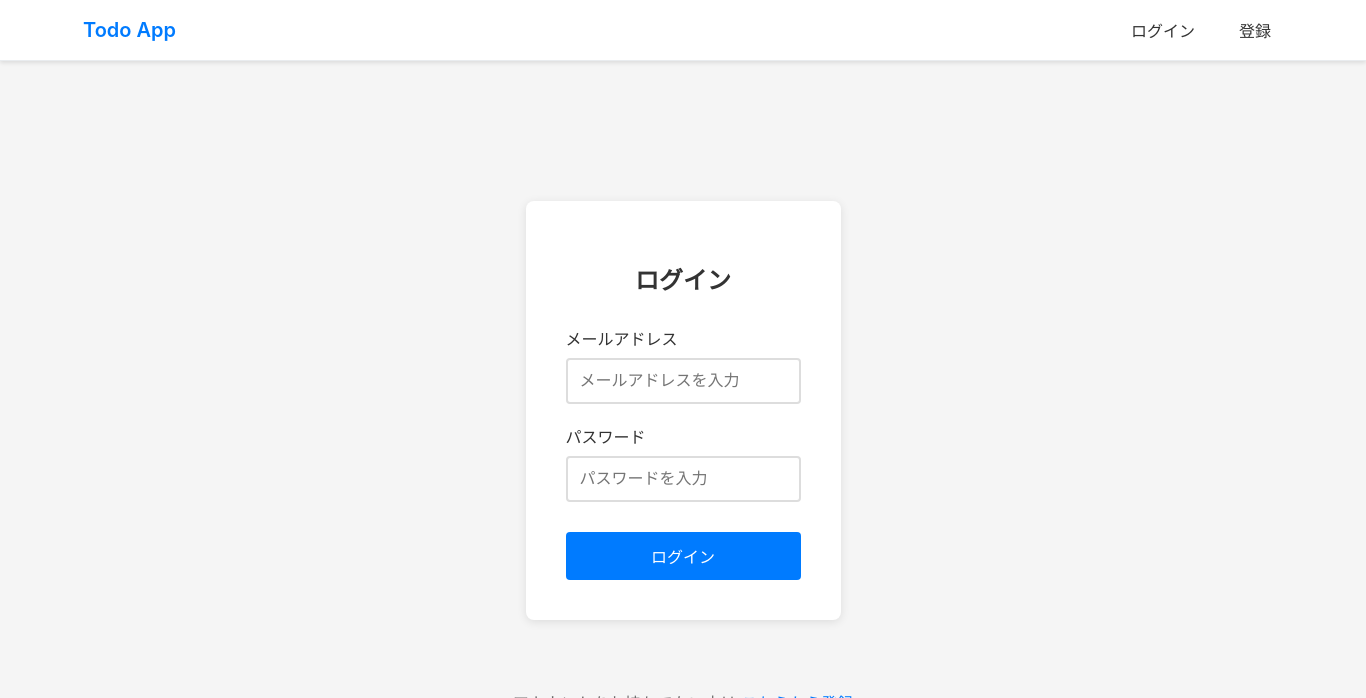
認証フロー統合テスト › 登録フローが正常に動作する
The image size is (1366, 698).
Expected: the heading "ログイン" is shown, [635,266,731,295]
Note: 登録ページへのリンクをクリック（ナビゲーションバーから）
Click the link "登録" at (1255, 31), box [1239,21,1271,41]
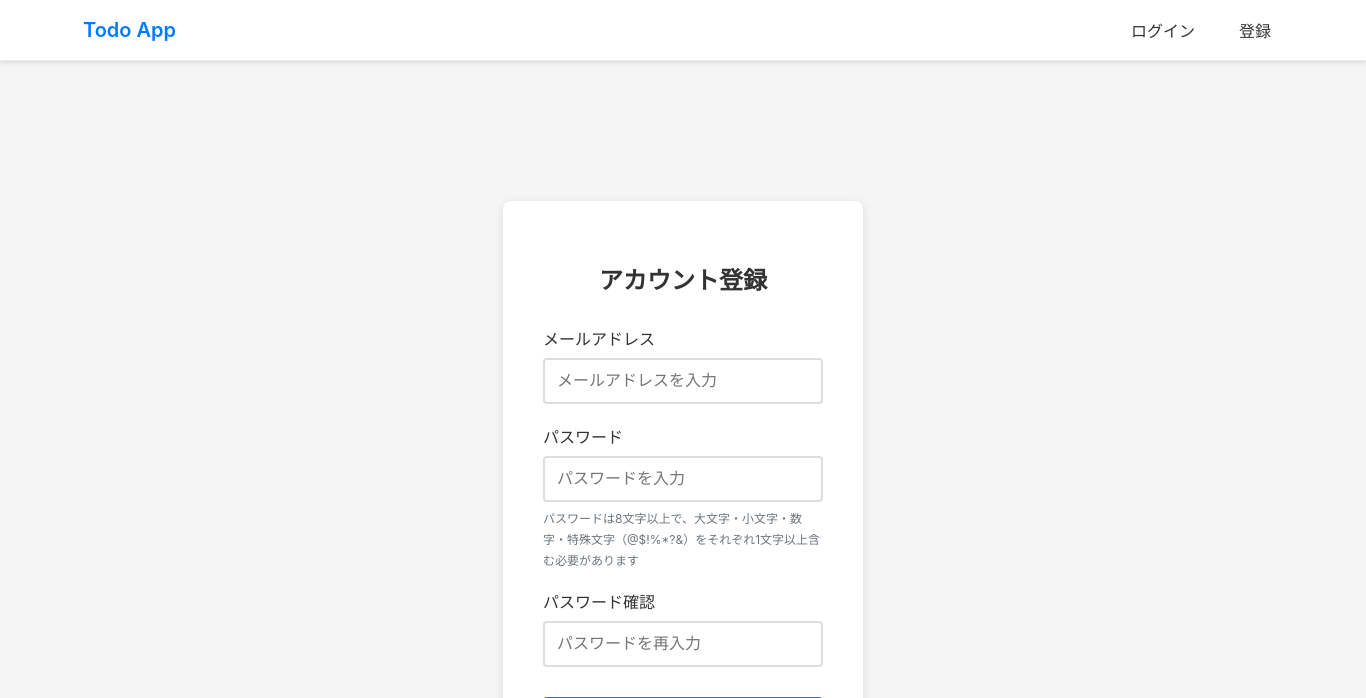
Expected: the heading "アカウント登録" is shown, [599,266,767,295]
Type "newuser@example.com" into the field labelled "メールアドレス" at (683, 381), box [543,358,823,404]
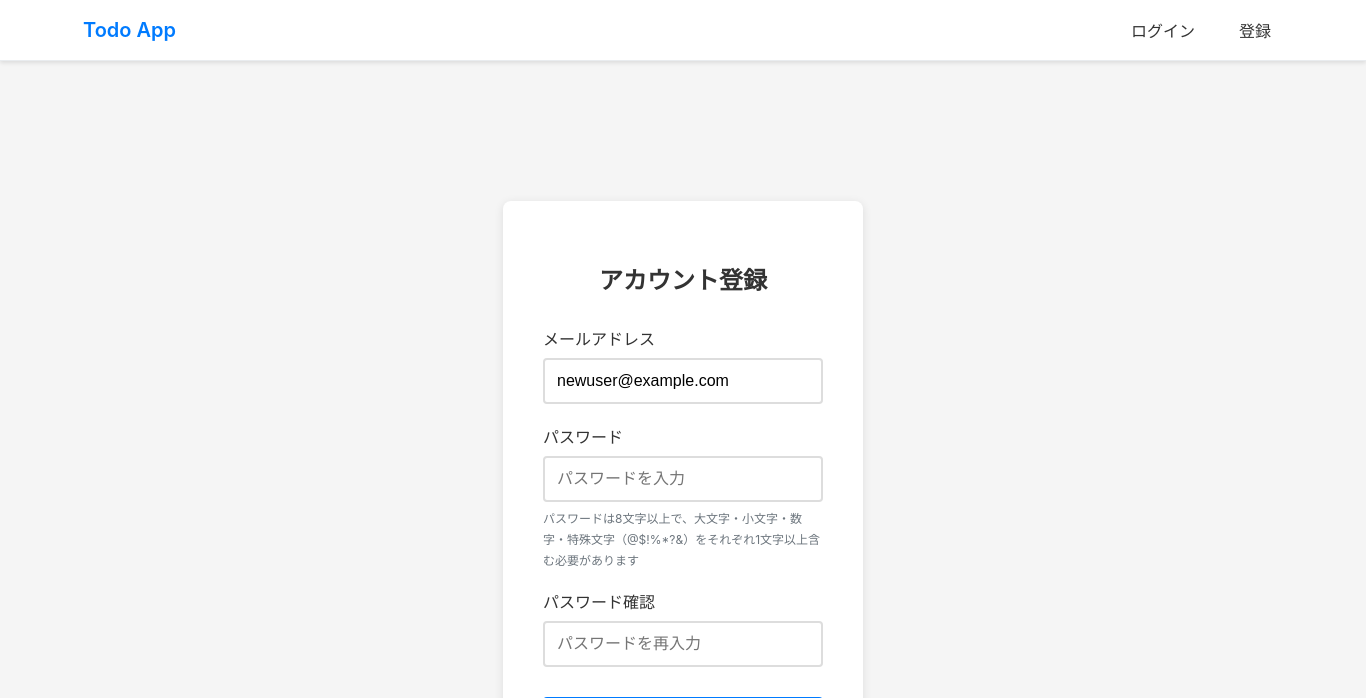
Type "Password123!" into the password field labelled "パスワード" at (683, 479), box [543,456,823,502]
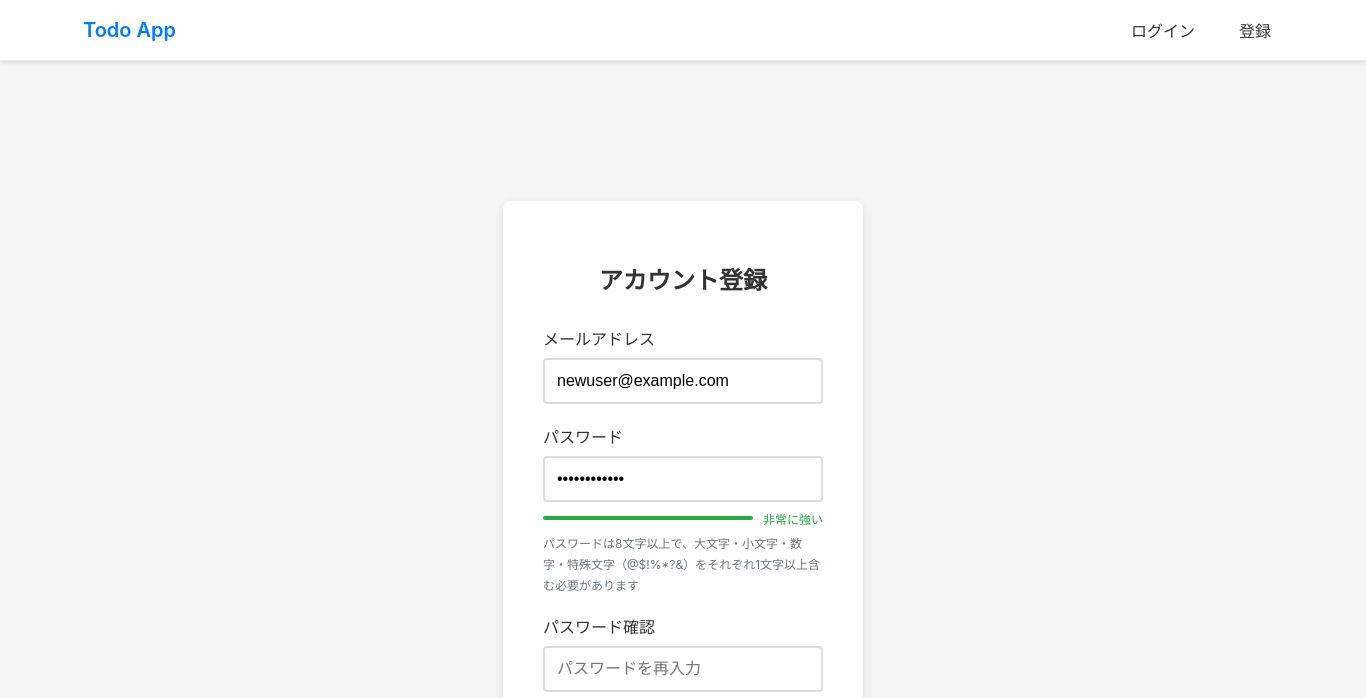
Type "Password123!" into the password field labelled "パスワード確認" at (683, 669), box [543,646,823,692]
(page scrolled)
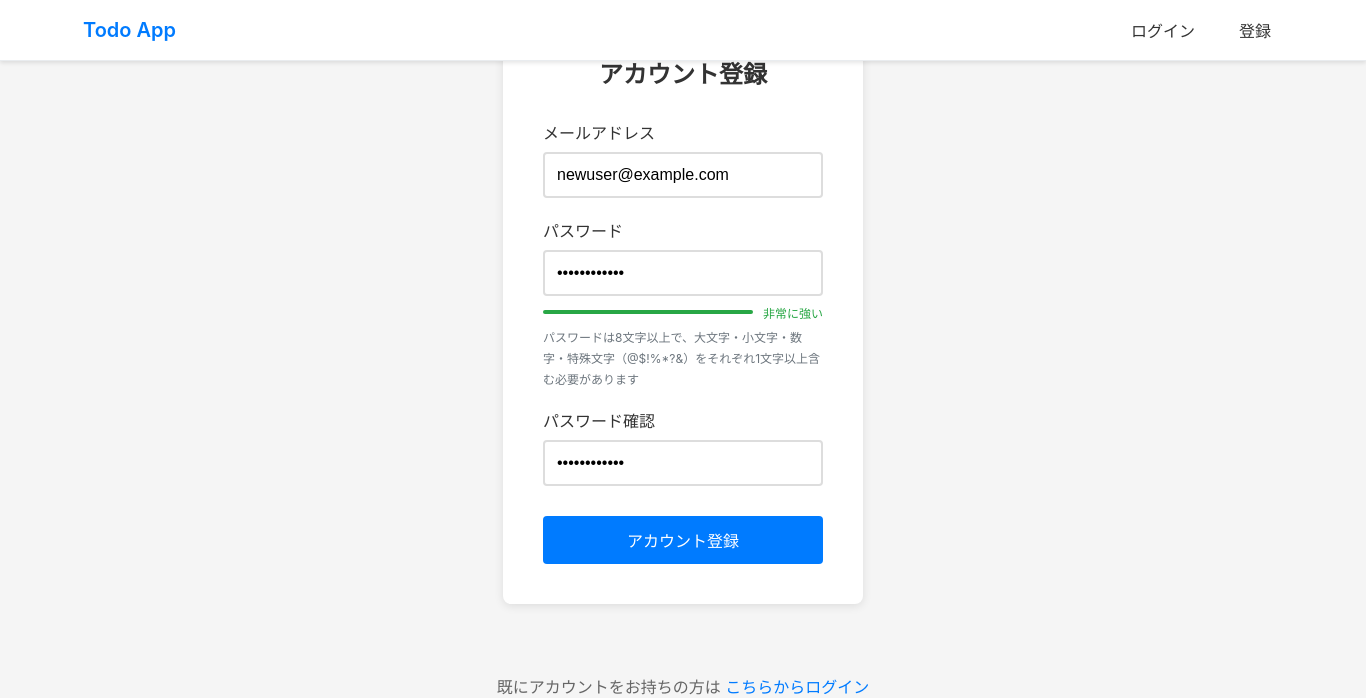
Click the button "アカウント登録" at (683, 540), box [543,516,823,564]
(page scrolled)
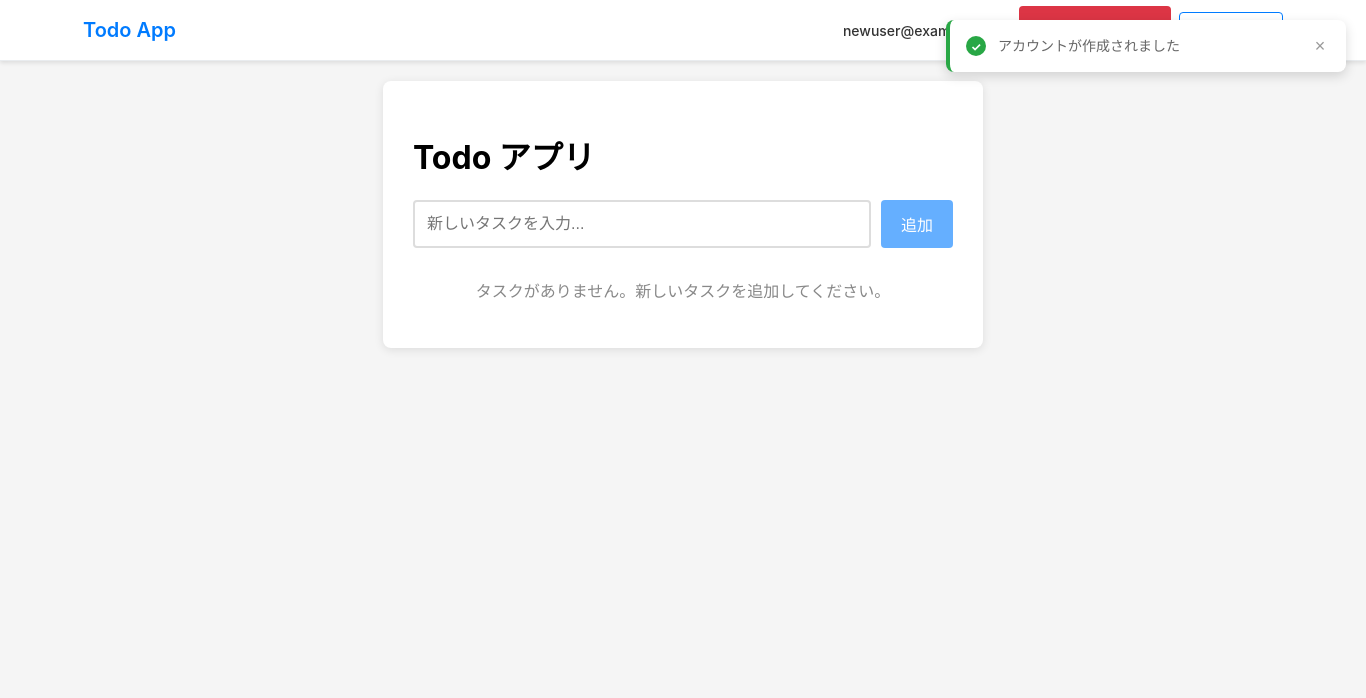
Expected: the heading "Todo アプリ" is shown, [413,138,595,177]
